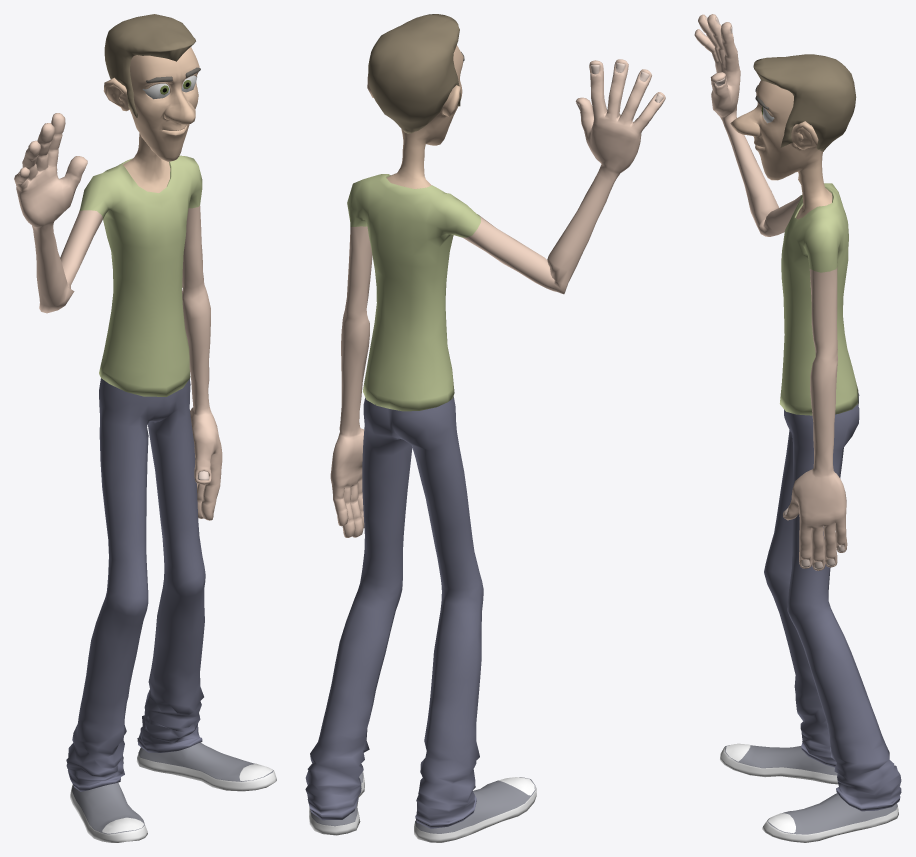
The model's file is hello_pose.fbx.
The picture shows the model from 3 angles, left to right: view 1: azimuth 30°, elevation 25°; view 2: azimuth 150°, elevation 25°; view 3: azimuth 270°, elevation 25°; orthographic projection. The views are drawn at different scales.
Visible parts, largest first — view 1: eyeBall1Lf; view 2: eyeBall1Lf; view 3: eyeBall1Lf.
Part boxes in pixels (x1=…): eyeBall1Lf: x1=14, y1=14, x2=276, y2=842; eyeBall1Lf: x1=305, y1=14, x2=665, y2=842; eyeBall1Lf: x1=694, y1=14, x2=901, y2=842.
Bounding box in the file's own units: 3.51 × 8.72 × 2.23.
